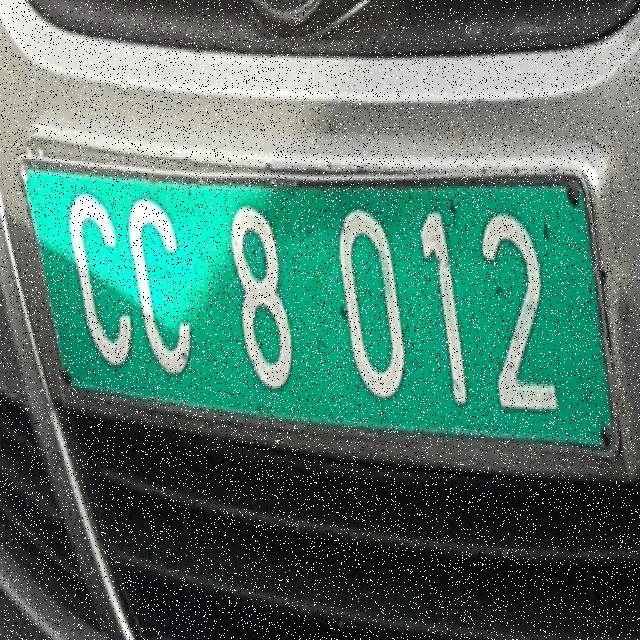licenseplate: (10, 108, 640, 504)
